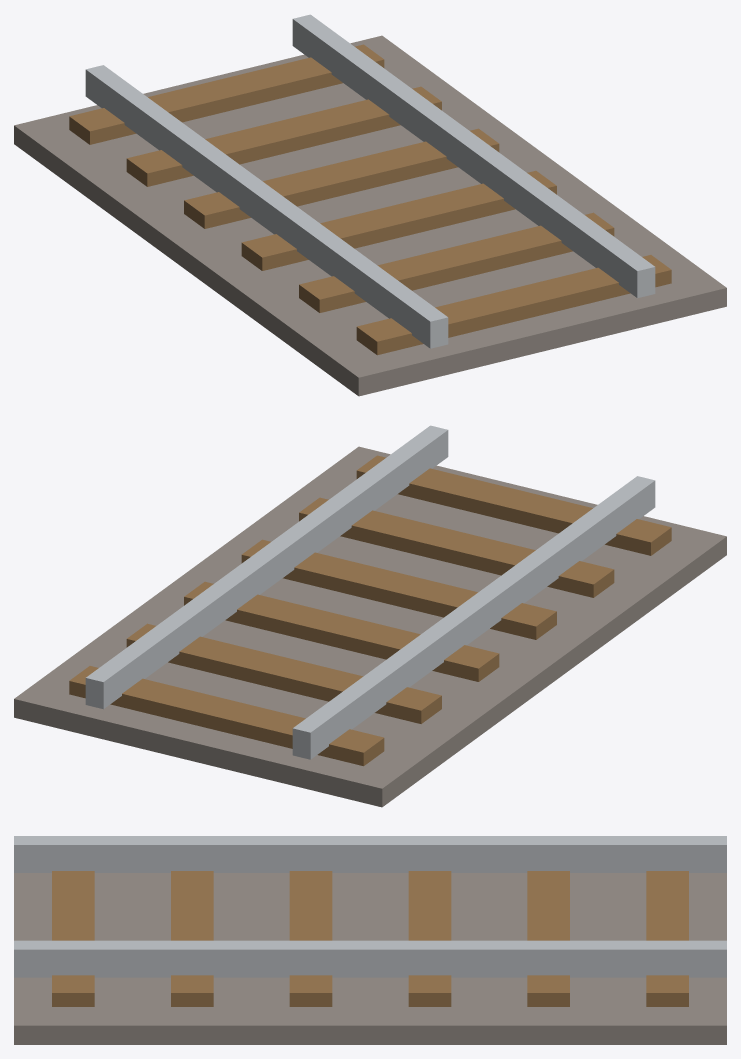
The model's file is 13_railway_track.glb.
3 renders of one model, top to bottom at view 1: azimuth 30°, elevation 25°; view 2: azimuth 150°, elevation 25°; view 3: azimuth 270°, elevation 25°, orthographic. The views are drawn at different scales.
Parts seen in each view (by area): view 1: RailwayTrack; view 2: RailwayTrack; view 3: RailwayTrack.
Part boxes in pixels (box(x1,y1,x2,y2)): RailwayTrack: box(14, 14, 726, 396); RailwayTrack: box(14, 425, 726, 807); RailwayTrack: box(14, 836, 726, 1044).
Bounding box in the file's own units: 1.85 × 0.275 × 3.
